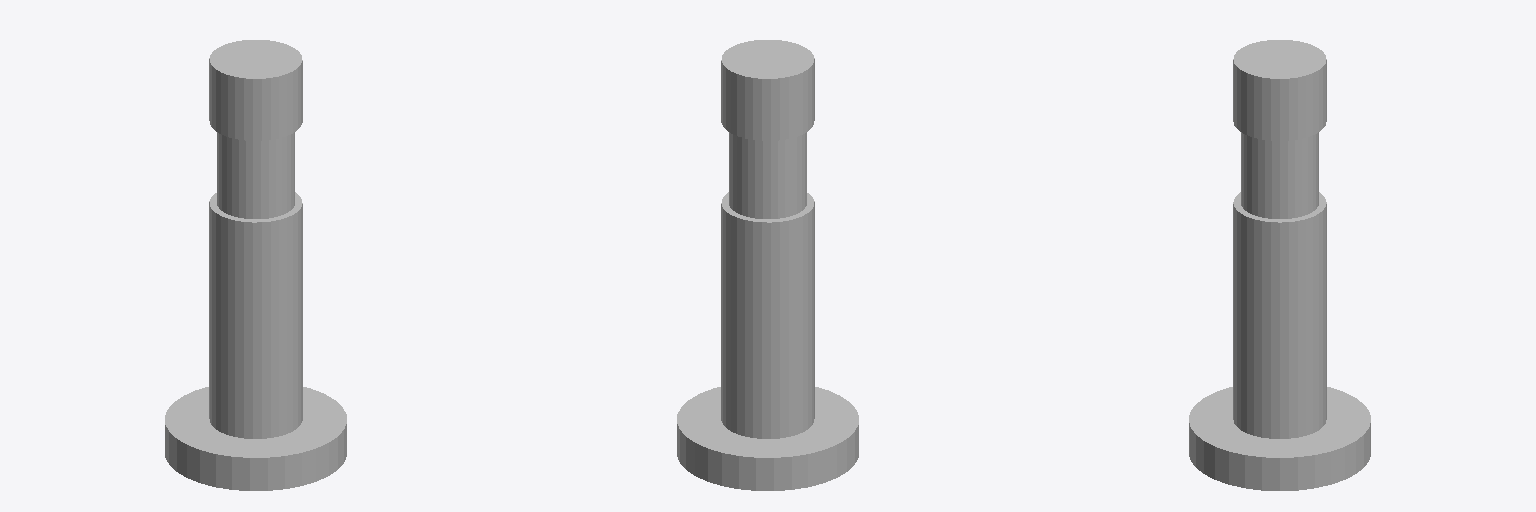
File: lamppost.obj
The picture shows the model from 3 angles: view 1: azimuth 30°, elevation 25°; view 2: azimuth 150°, elevation 25°; view 3: azimuth 270°, elevation 25°; orthographic projection.
Visible parts, largest first — view 1: Bodenplatte_Cylinder; view 2: Bodenplatte_Cylinder; view 3: Bodenplatte_Cylinder.
Boxes of the visible parts, <box> form: Bodenplatte_Cylinder: <box>165,40,346,490</box>; Bodenplatte_Cylinder: <box>677,40,858,490</box>; Bodenplatte_Cylinder: <box>1189,40,1370,490</box>.
Size of the model in its own units: 2 by 4.75 by 2.